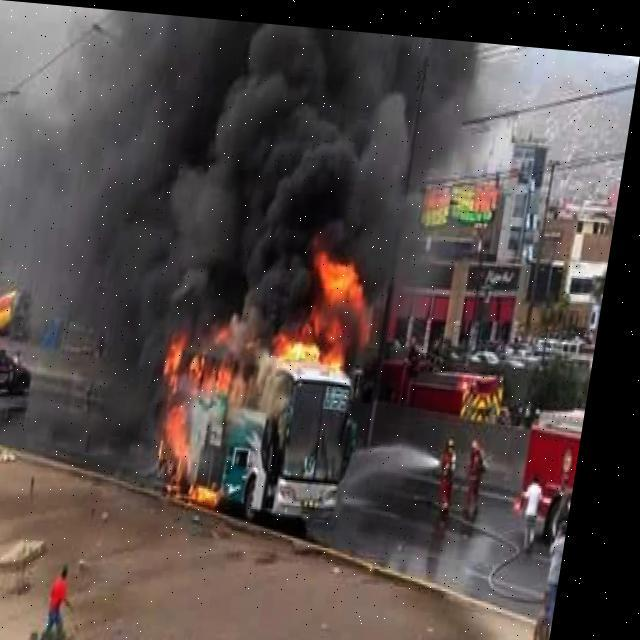Fire: (154, 230, 408, 526)
